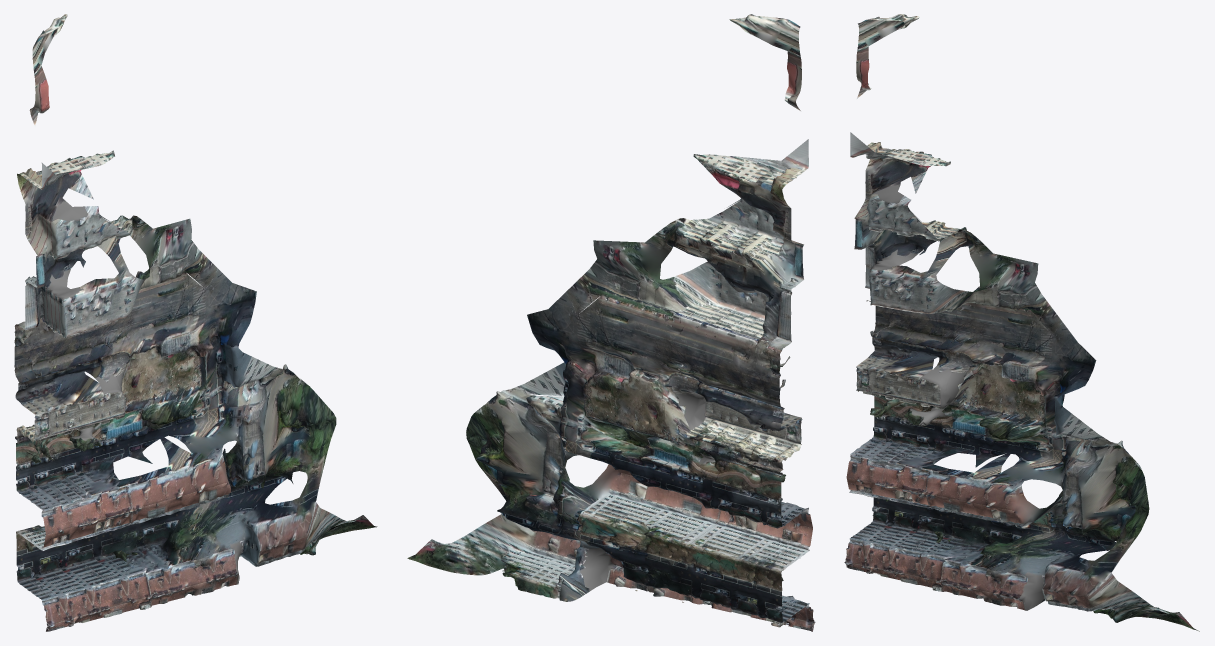
The model's file is Tile_+003_+003.obj.
3 renders of one model, left to right at view 1: azimuth 30°, elevation 25°; view 2: azimuth 150°, elevation 25°; view 3: azimuth 330°, elevation 25°, orthographic. The views are drawn at different scales.
Size of the model in its own units: 152 by 239 by 25.69.
Materials: 7 (7 with a texture image).
